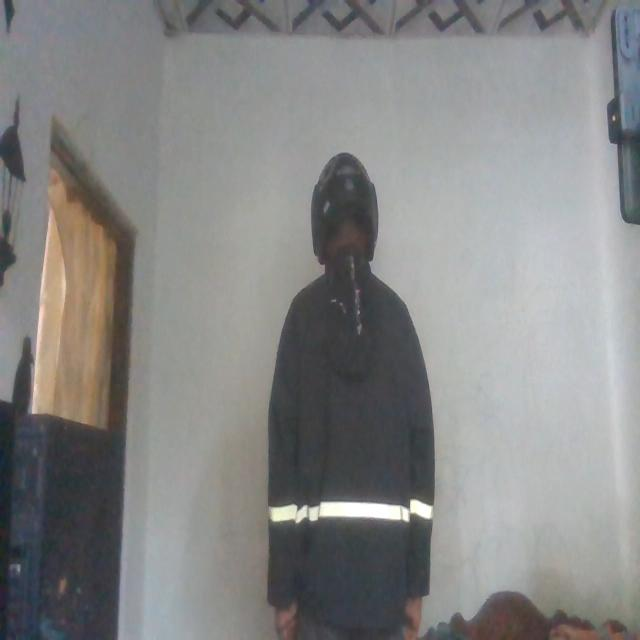Helmet_Wearer: (305, 150, 383, 286)
Jacket_Wearer: (268, 274, 434, 604)
Person: (263, 146, 438, 640)
